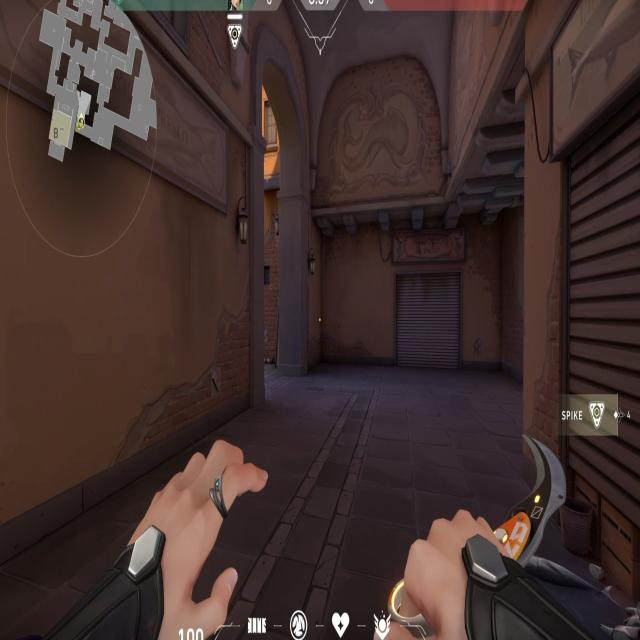B_Main_Corner: (522, 0, 636, 544)
